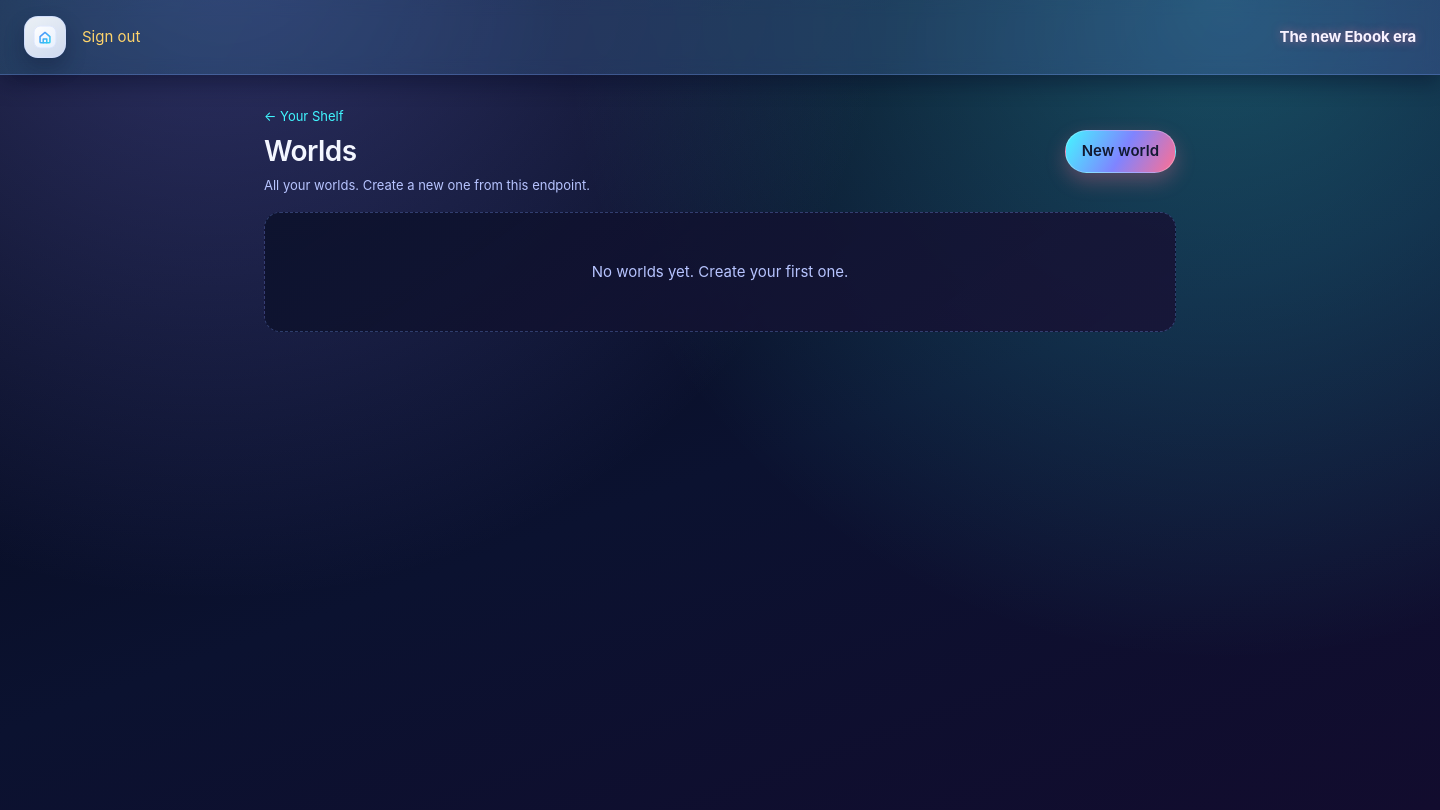
Test case: <Worlds /> › opens the new-world form and creates a world
Check: the text "No worlds yet. Create your first one." is shown, box [264,212,1176,332]
Click the button "New world".
click(1120, 151)  # box [1065,130,1176,172]
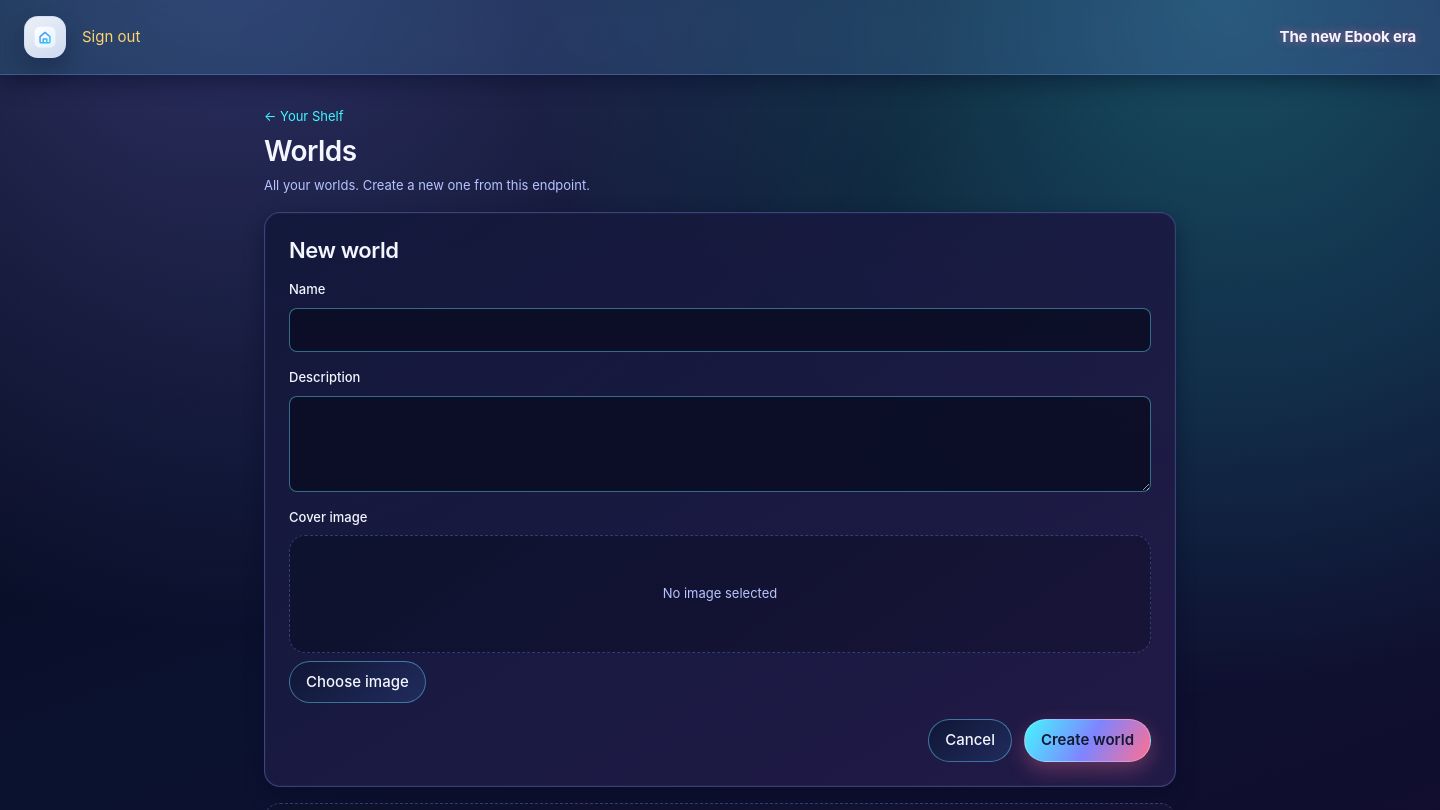
Type "New" into the field labelled "Name".
click(720, 330); type("New")  # box [289,308,1151,352]
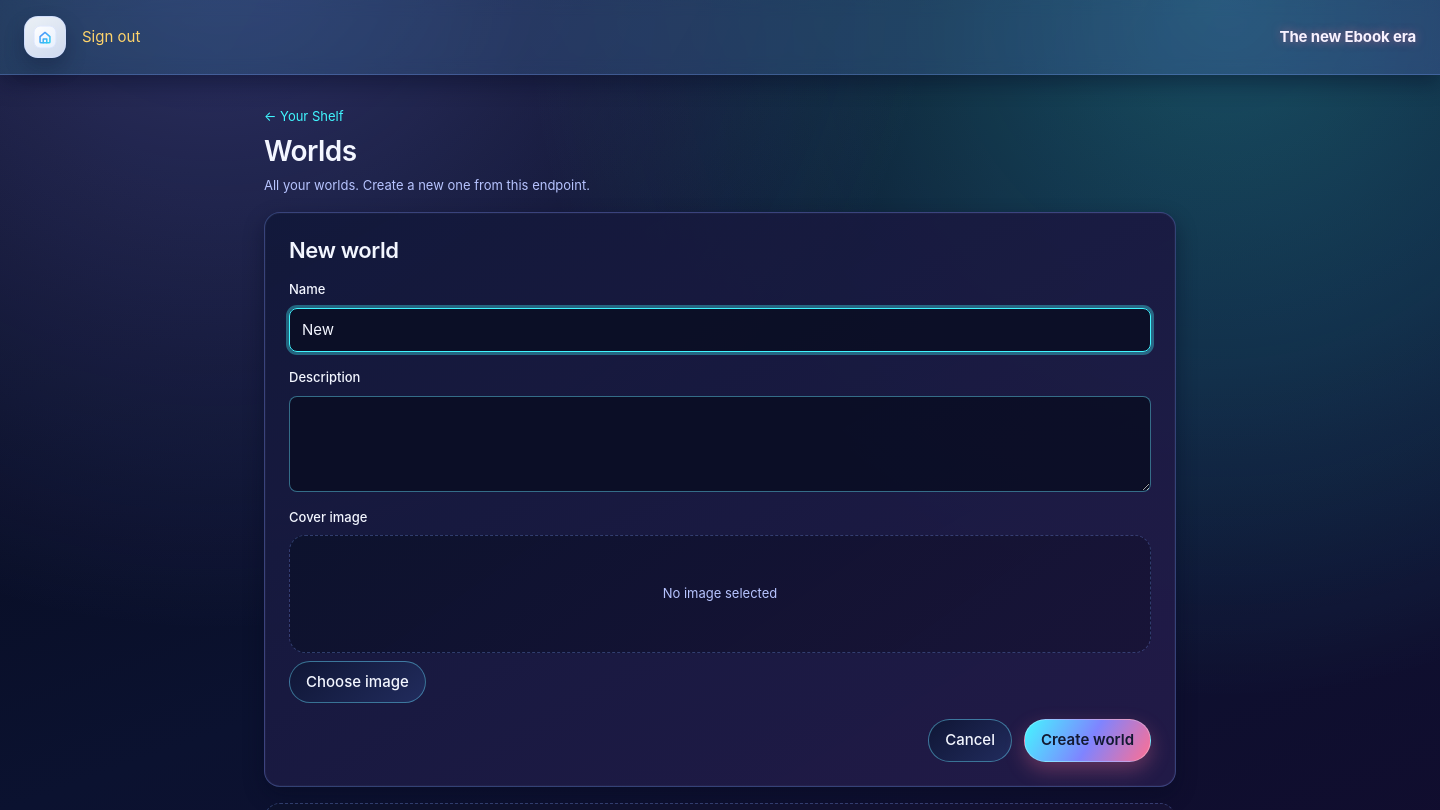
Click the button "Create world".
click(1087, 740)  # box [1024,719,1151,762]
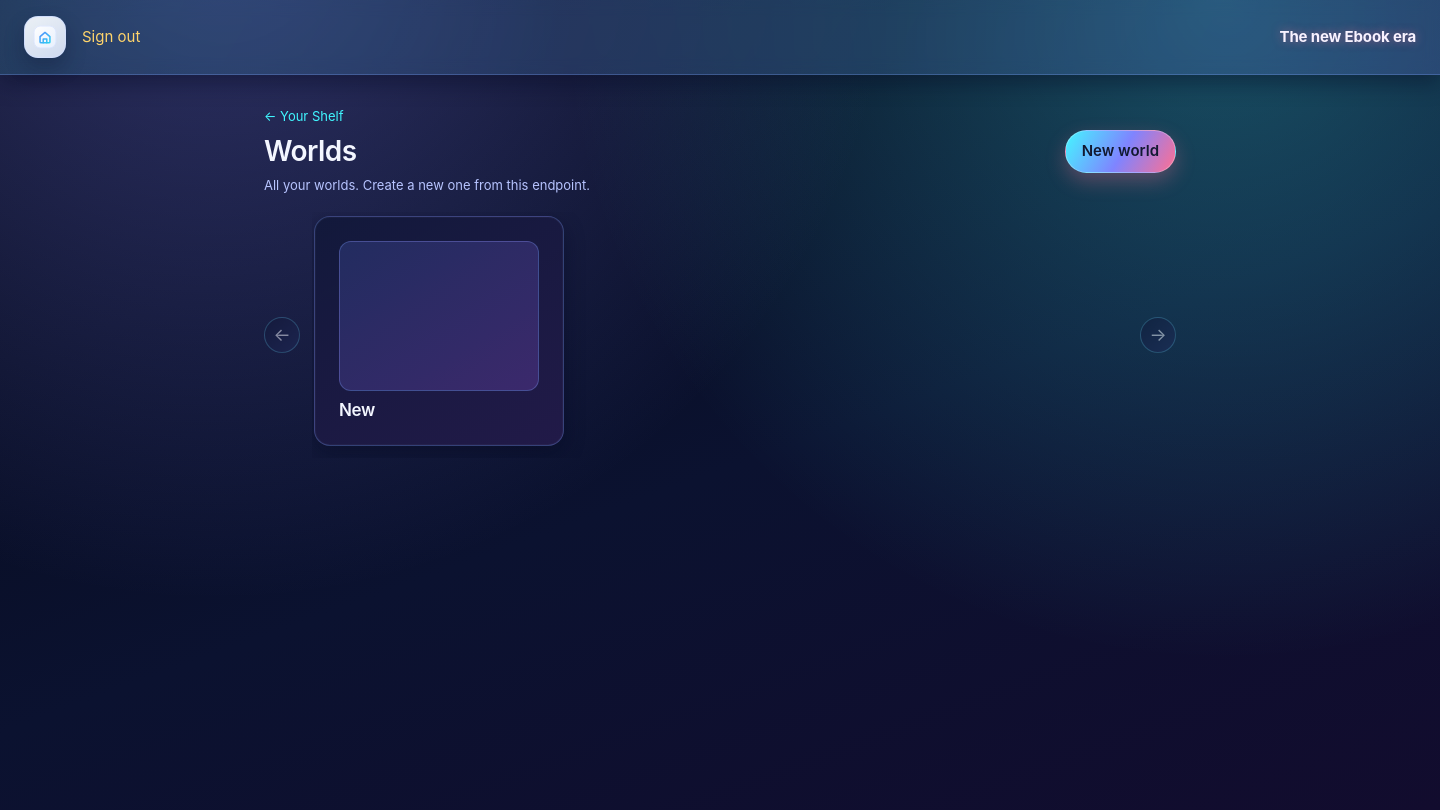
Check: the heading "New" is shown, box [339,400,375,420]
